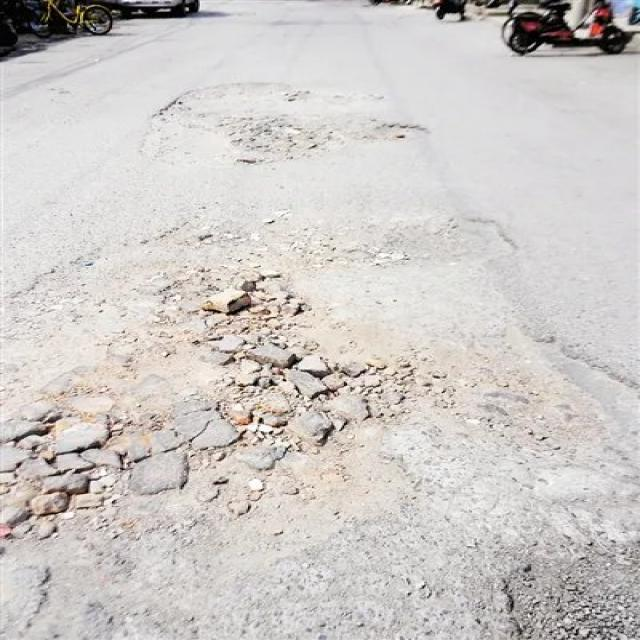Pothole: (11, 218, 557, 522), (154, 80, 434, 168)
